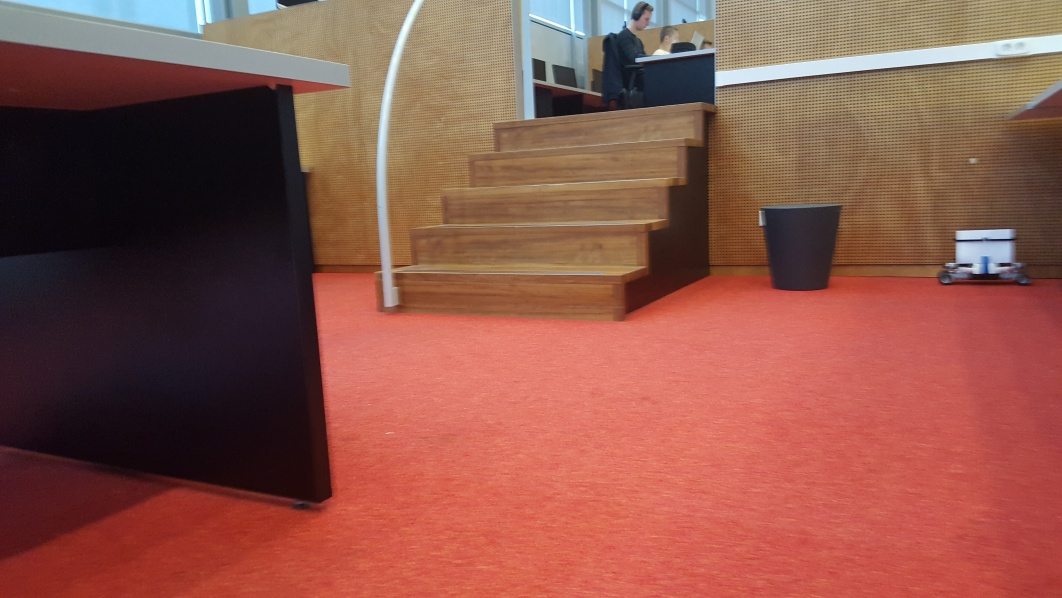car: (935, 228, 1028, 286)
